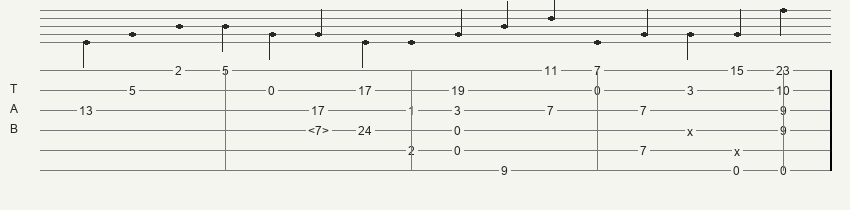0: (268, 84, 279, 97), (454, 124, 465, 137), (454, 144, 465, 157), (594, 84, 605, 97), (733, 164, 744, 177), (780, 164, 791, 177)
1: (408, 104, 419, 117)
10: (776, 84, 794, 97)
11: (544, 64, 562, 77)
13: (79, 104, 97, 117)
15: (730, 64, 748, 77)
17: (311, 104, 329, 117), (358, 84, 376, 97)
19: (451, 84, 469, 97)
2: (175, 64, 186, 77), (408, 144, 419, 157)
23: (776, 64, 794, 77)
24: (358, 124, 376, 137)
3: (454, 104, 465, 117), (687, 84, 698, 97)
5: (129, 84, 140, 97), (222, 64, 233, 77)
7: (547, 104, 558, 117), (594, 64, 605, 77), (640, 144, 651, 157), (640, 104, 651, 117)
9: (501, 164, 512, 177), (780, 104, 791, 117), (780, 124, 791, 137)
harmonic: (308, 124, 333, 137)
x: (687, 125, 697, 136), (734, 145, 744, 156)
